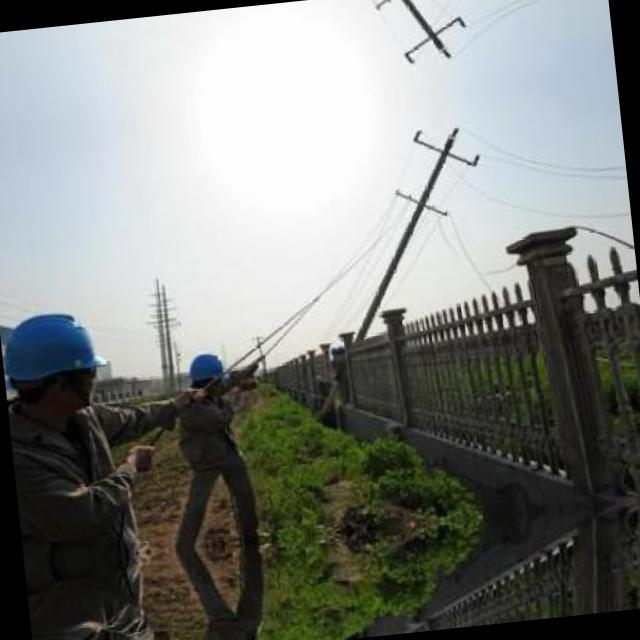helmet: (0, 294, 115, 429), (183, 348, 230, 400)
